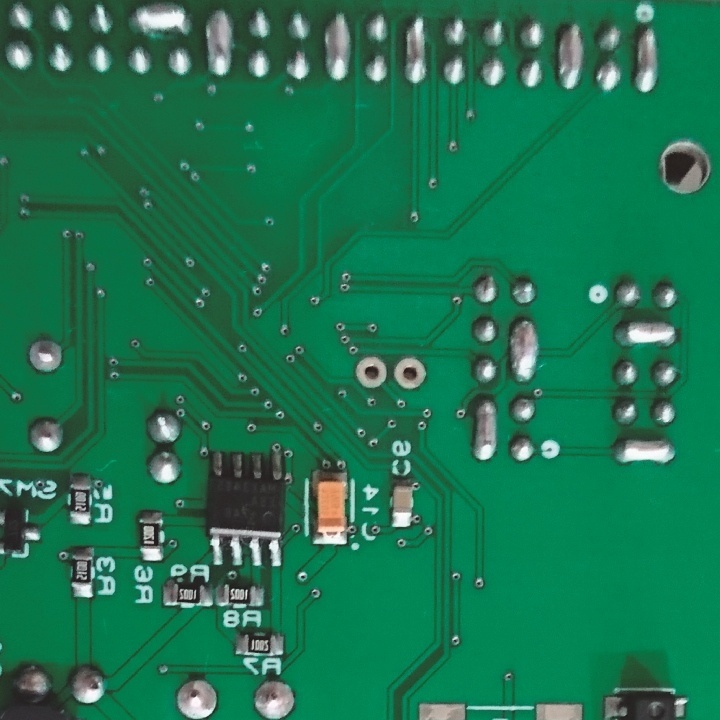F: (250, 675, 297, 720), (176, 675, 219, 720), (390, 352, 430, 395), (27, 335, 67, 377), (352, 354, 389, 392)
P: (125, 1, 197, 41), (613, 314, 683, 355), (504, 317, 542, 386), (403, 10, 435, 91), (324, 6, 355, 87), (612, 432, 676, 471), (204, 1, 234, 82), (556, 14, 586, 94), (468, 393, 499, 469), (633, 26, 661, 100)
